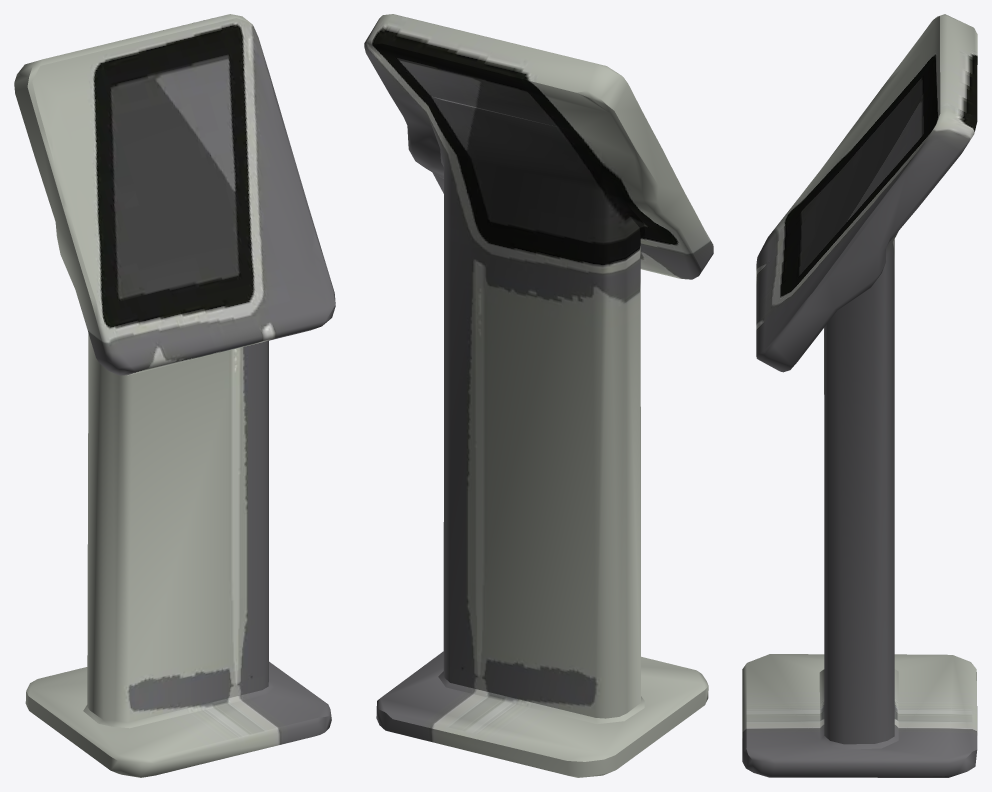
3 renders of one model, left to right at view 1: azimuth 30°, elevation 25°; view 2: azimuth 150°, elevation 25°; view 3: azimuth 270°, elevation 25°, orthographic. The views are drawn at different scales.
Parts seen in each view (by area): view 1: Decor_info_totem_b; view 2: Decor_info_totem_b; view 3: Decor_info_totem_b.
Boxes of the visible parts, x1,y1,x2,y2 form: Decor_info_totem_b: (14, 14, 335, 777); Decor_info_totem_b: (364, 14, 713, 777); Decor_info_totem_b: (742, 14, 977, 777).
Bounding box in the file's own units: 0.7425 × 2 × 0.6426.
1 material, 1 textured.
